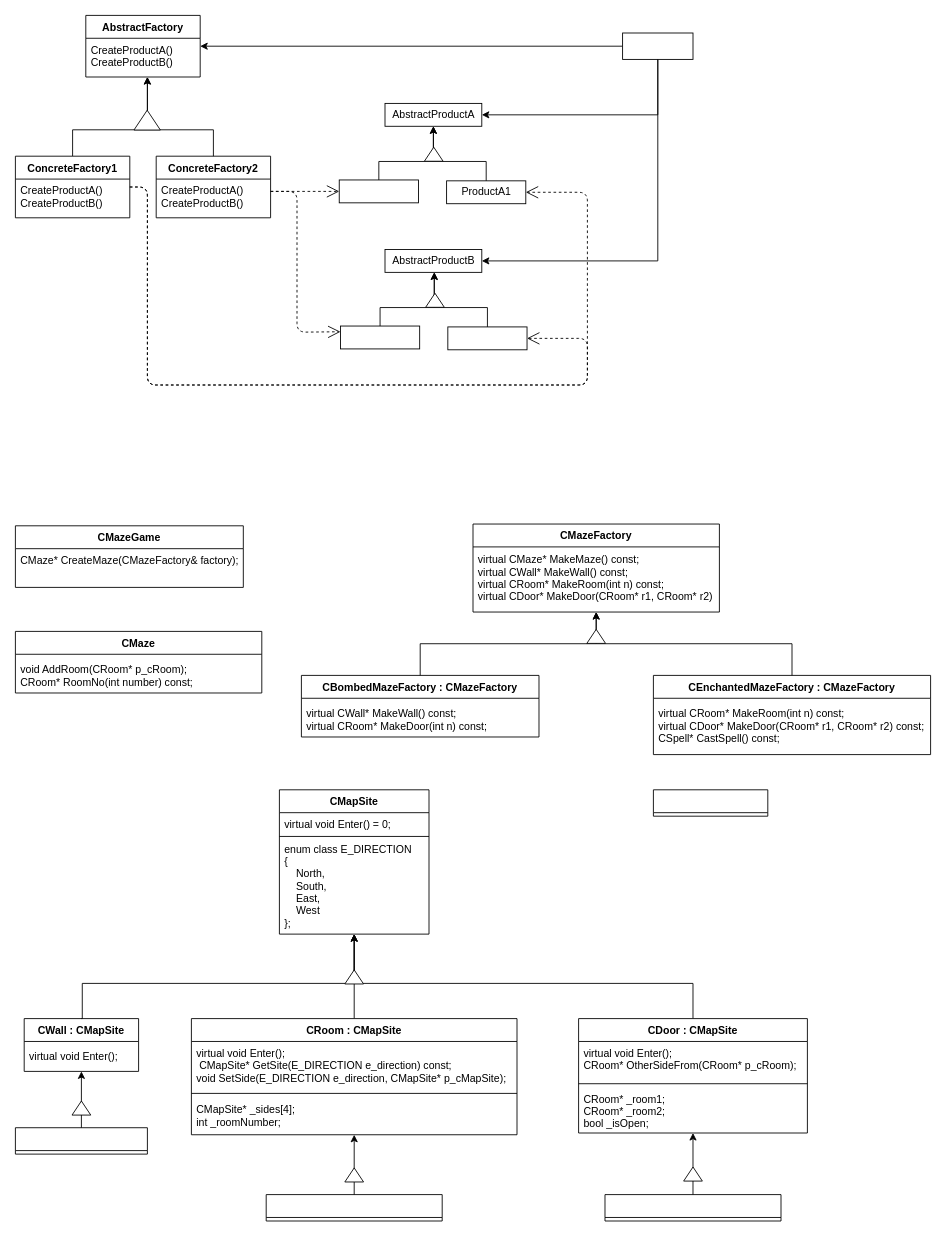
This 946x1236 diagram has some shape labels left out. Here are the shapes that lost their labels. From the top down, the centre of each, then its label:
At (x=657, y=45): "Client".
At (x=378, y=191): "ProductA2".
At (x=380, y=337): "ProductB2".
At (x=487, y=338): "ProductB1".
At (x=710, y=802): "CSpell".
At (x=81, y=1140): "CBombedWall : CWall".
At (x=353, y=1207): "CRoomWithABomb : CRoom".
At (x=692, y=1207): "CDoorNeedingSpell : CDoor".
